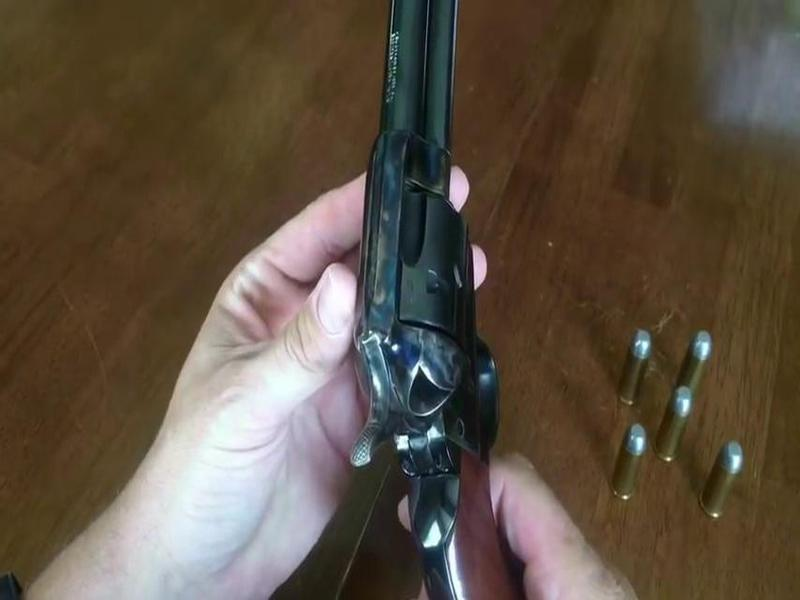Revolver: (348, 9, 571, 599)
